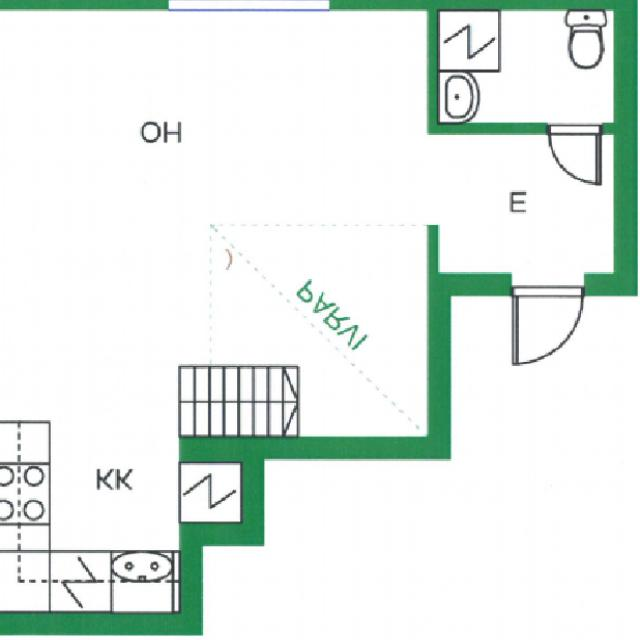door: (515, 285, 582, 363), (550, 122, 601, 184)
